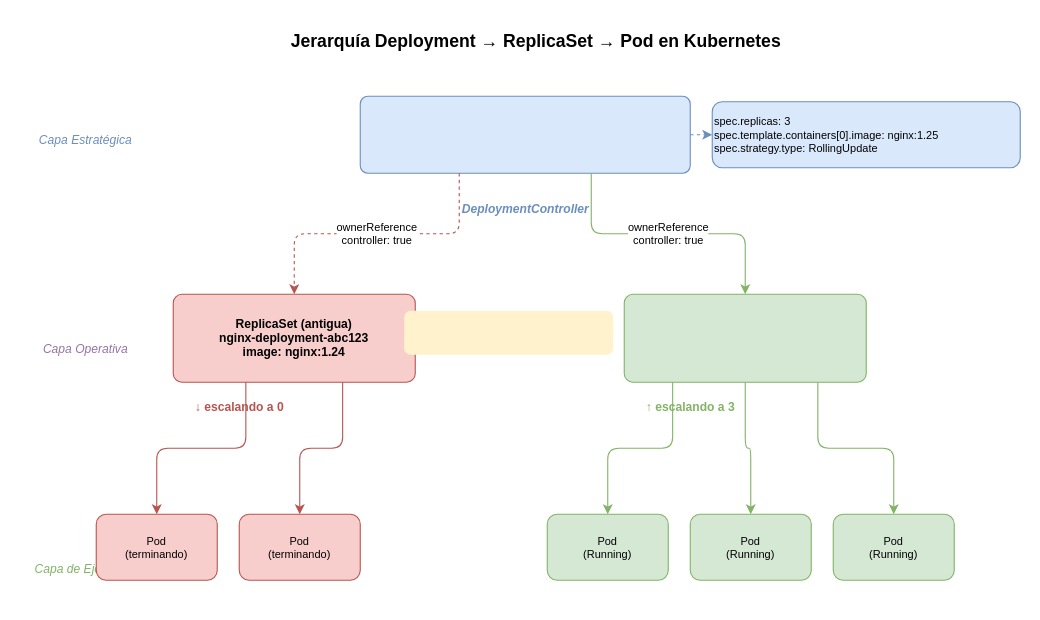
The diagram is 1040 pixels wide and 620 high, and some of its shapes have lost their labels. The shapes that lost their labels are listed below. From the top down, each one's box as (x1, y1, x2, y2) in pixels, then its label:
(359, 95, 690, 173): Deployment nginx-deployment
(404, 310, 613, 354): pod-template-hash identifica la versión
(623, 293, 866, 382): ReplicaSet (nueva) nginx-deployment-75675f image: nginx:1.25
